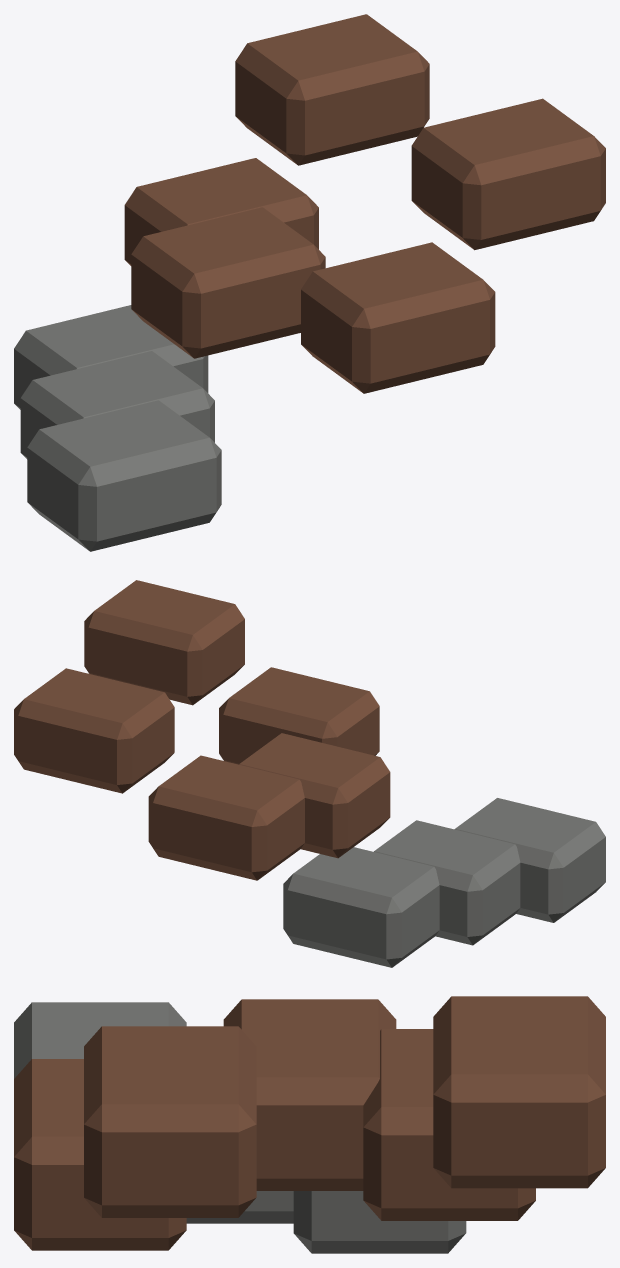
File: adobe_rubble.glb
The picture shows the model from 3 angles, top to bottom: view 1: azimuth 30°, elevation 25°; view 2: azimuth 150°, elevation 25°; view 3: azimuth 270°, elevation 25°; orthographic projection. The views are drawn at different scales.
Parts seen in each view (by area): view 1: Adobe caído.005, Adobe caído, Adobe caído.002, Adobe caído.007, Adobe caído.001, Adobe caído.004, Adobe caído.003, Adobe caído.006; view 2: Adobe caído.002, Adobe caído.004, Adobe caído.005, Adobe caído.006, Adobe caído.007, Adobe caído.001, Adobe caído, Adobe caído.003; view 3: Adobe caído.002, Adobe caído.005, Adobe caído.001, Adobe caído.007, Adobe caído.004, Adobe caído.006, Adobe caído, Adobe caído.003.
Boxes of the visible parts, <box> form: Adobe caído.005: <box>411,98,605,250</box>; Adobe caído: <box>27,400,221,551</box>; Adobe caído.002: <box>235,14,429,165</box>; Adobe caído.007: <box>301,242,495,393</box>; Adobe caído.001: <box>131,207,325,358</box>; Adobe caído.004: <box>124,158,318,265</box>; Adobe caído.003: <box>20,351,214,459</box>; Adobe caído.006: <box>14,305,208,409</box>; Adobe caído.002: <box>14,668,174,793</box>; Adobe caído.004: <box>148,755,304,880</box>; Adobe caído.005: <box>84,580,244,705</box>; Adobe caído.006: <box>283,847,439,967</box>; Adobe caído.007: <box>219,667,379,764</box>; Adobe caído.001: <box>239,733,390,858</box>; Adobe caído: <box>454,798,605,922</box>; Adobe caído.003: <box>374,820,520,945</box>; Adobe caído.002: <box>433,996,605,1188</box>; Adobe caído.005: <box>84,1026,256,1217</box>; Adobe caído.001: <box>223,999,396,1190</box>; Adobe caído.007: <box>14,1059,186,1250</box>; Adobe caído.004: <box>363,1029,535,1220</box>; Adobe caído.006: <box>293,1191,466,1253</box>; Adobe caído: <box>14,1002,186,1078</box>; Adobe caído.003: <box>186,1191,293,1223</box>.
Bounding box in the file's own units: 1.3 × 0.6 × 0.9.
